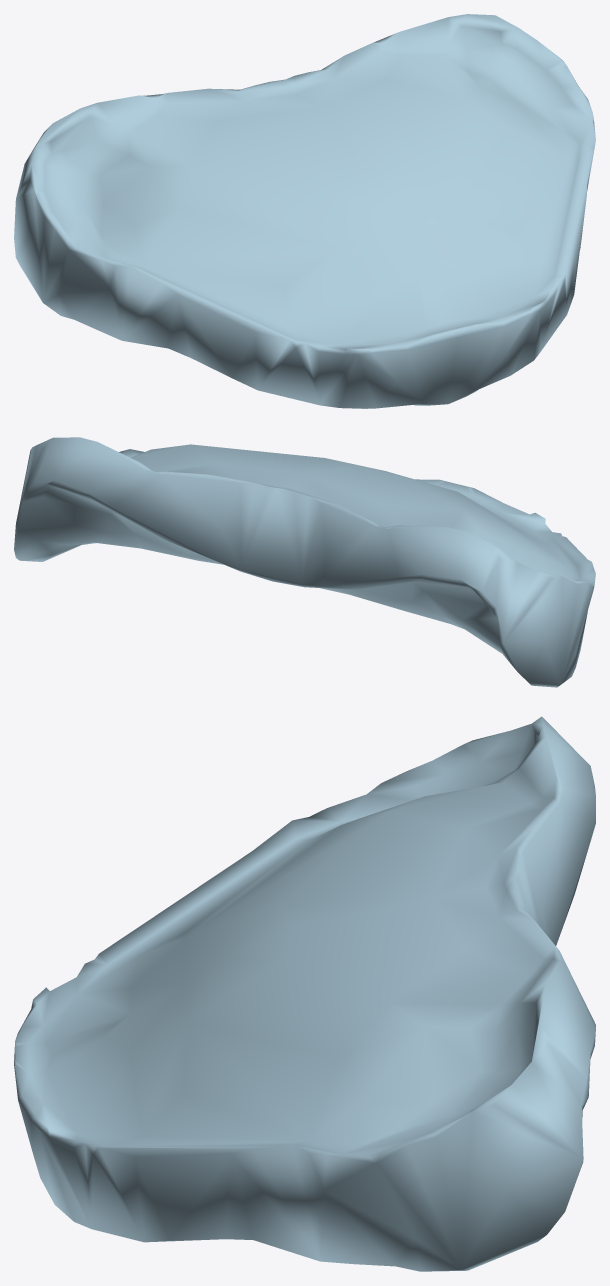
File: articulacoes-intervertebral-disc-t2-t3.glb
3 renders of one model, top to bottom at view 1: azimuth 30°, elevation 25°; view 2: azimuth 150°, elevation 25°; view 3: azimuth 270°, elevation 25°, orthographic. The views are drawn at different scales.
Parts seen in each view (by area): view 1: Intervertebral disc T2-T3; view 2: Intervertebral disc T2-T3; view 3: Intervertebral disc T2-T3.
Part boxes in pixels (<box>): Intervertebral disc T2-T3: <box>14,14,595,408</box>; Intervertebral disc T2-T3: <box>14,437,595,687</box>; Intervertebral disc T2-T3: <box>14,716,595,1271</box>.
Size of the model in its own units: 0.0344 by 0.0133 by 0.0226.
